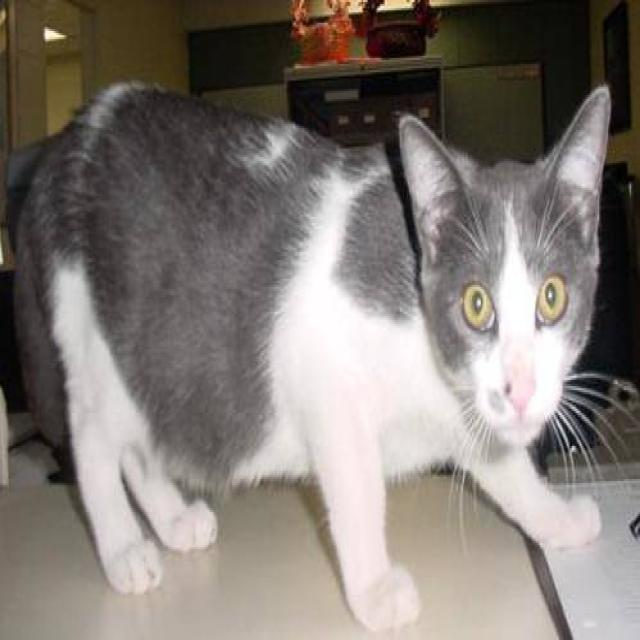cat: (5, 76, 638, 632)
